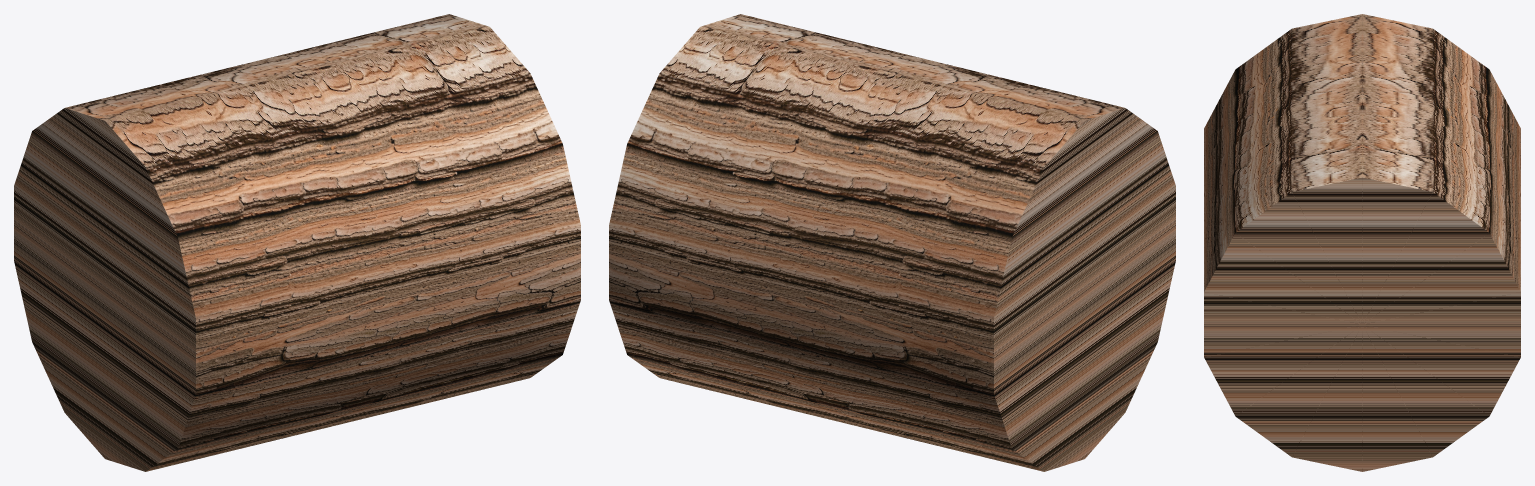
Rendered from cedarlogh.glb.
3 views of the same model, side by side, from view 1: azimuth 30°, elevation 25°; view 2: azimuth 150°, elevation 25°; view 3: azimuth 270°, elevation 25° (orthographic). The views are drawn at different scales.
Visible parts, largest first — view 1: Birch_Log_H_Birch; view 2: Birch_Log_H_Birch; view 3: Birch_Log_H_Birch.
Part boxes in pixels (bbox=[...]): Birch_Log_H_Birch: bbox=[14, 14, 580, 471]; Birch_Log_H_Birch: bbox=[609, 14, 1175, 471]; Birch_Log_H_Birch: bbox=[1204, 14, 1520, 471].
Size of the model in its own units: 1 by 0.84 by 0.8189.
1 material, 1 textured.
